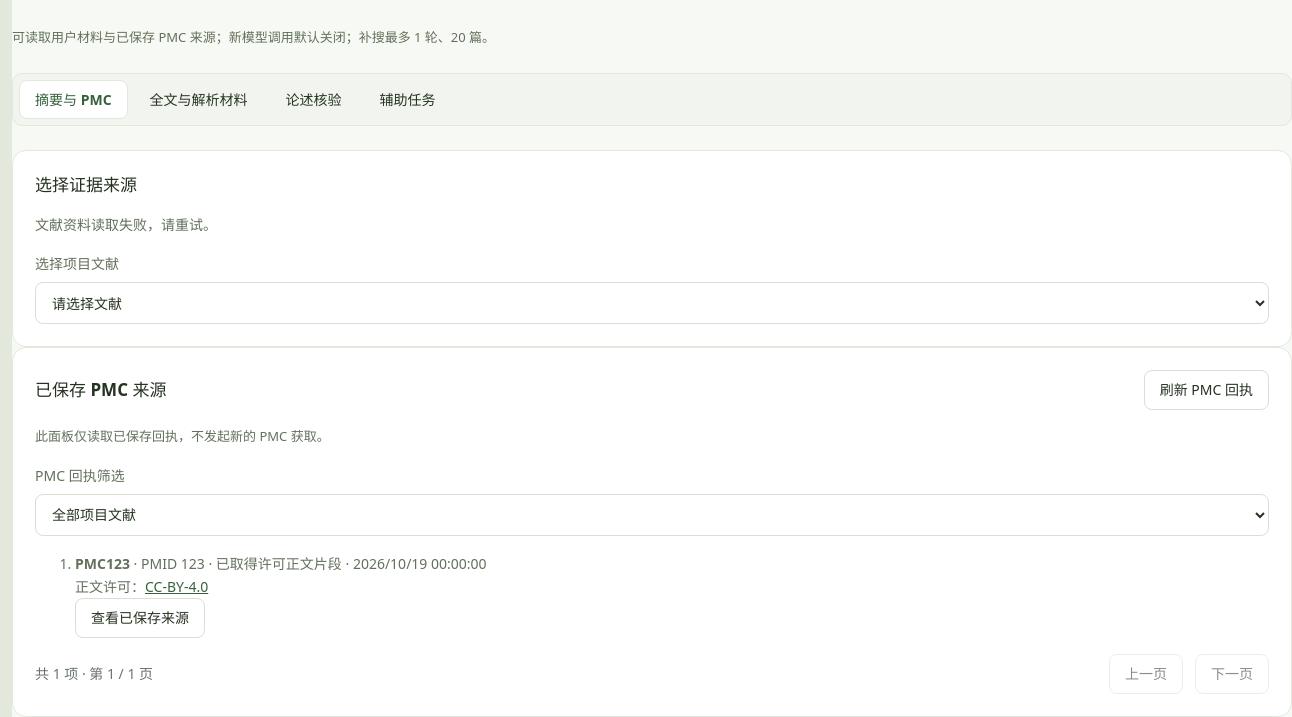
reads saved PMC receipts, paginates actual source and never acquires HTTP in zh-CN
(page scrolled)
Click the button "查看已保存来源" at (140, 618), box [75,598,205,638]
(page scrolled)
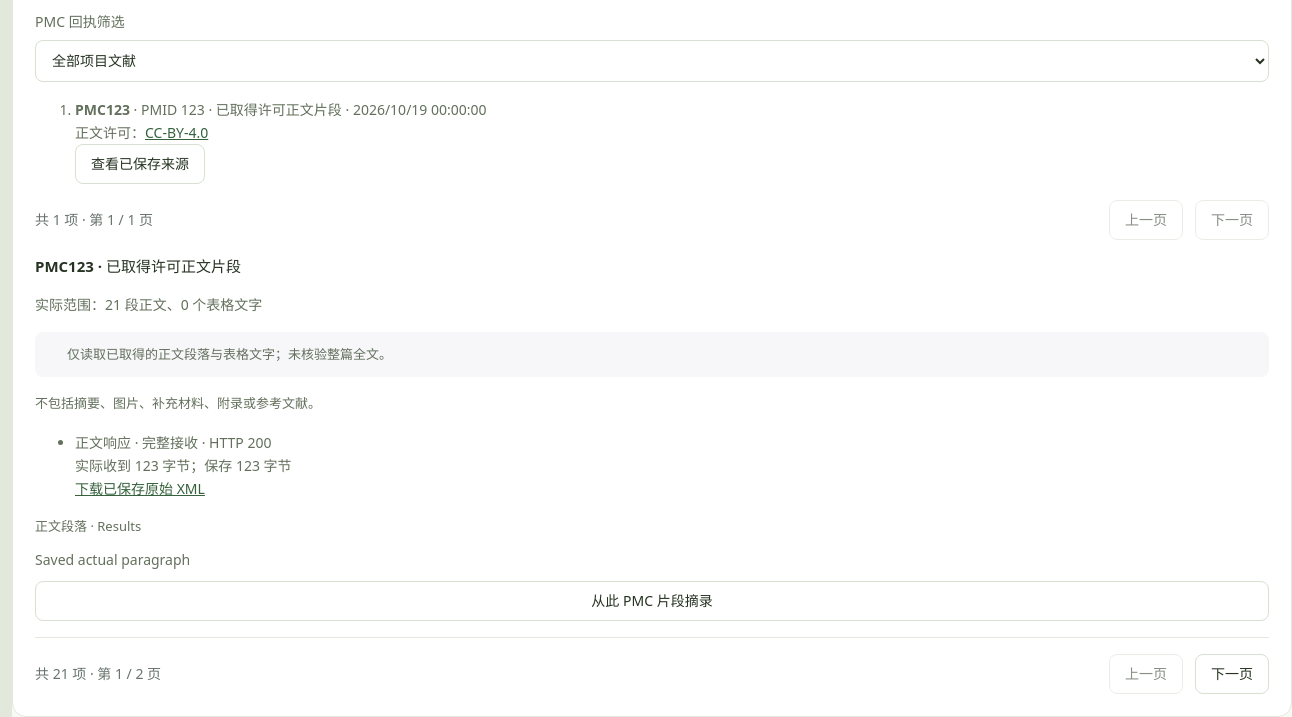
Expected: the link "CC-BY-4.0" is shown, [145,123,208,142]
Now the text "Saved actual paragraph" is shown, box [35,550,190,568]
Now the text "仅读取已取得的正文段落与表格文字；未核验整篇全文。" is shown, box [35,332,1269,377]
Click the button "下一页" in the row of "共 21 项 · 第 1 / 2 页" at (1232, 674), box [1195,654,1269,694]
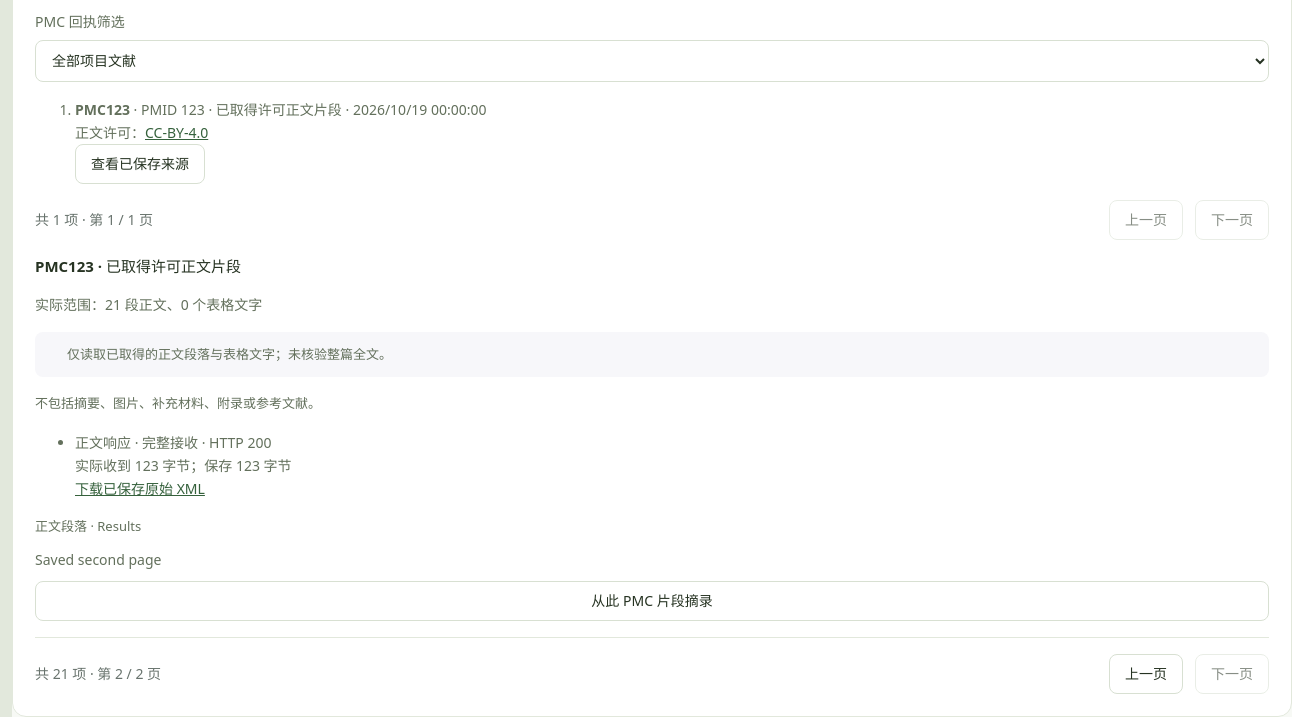
Now the text "Saved second page" is shown, box [35,550,162,568]
